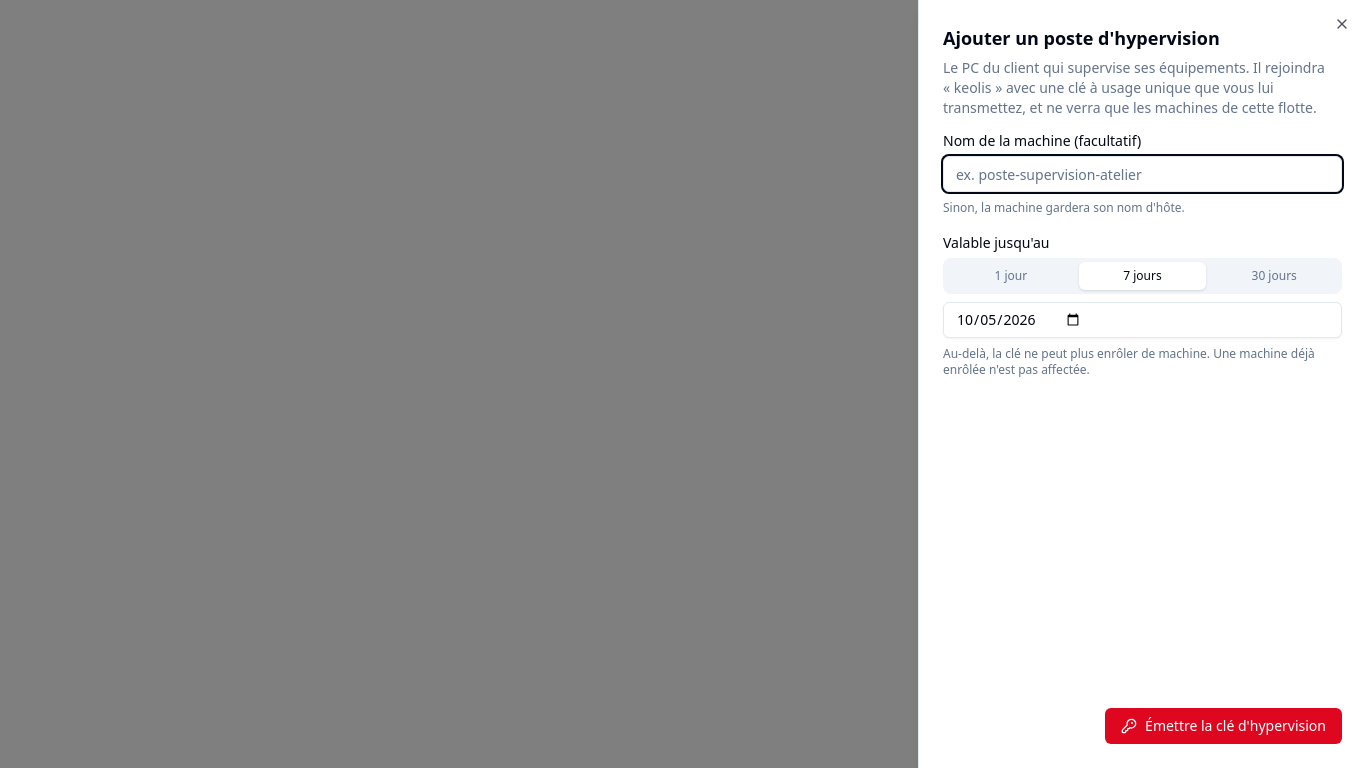
Test: AddMachineDialog › poste d’hypervision : uniquement par clé, marquée hypervision
This screenshot has width=1366, height=768.
Type "Poste Atelier" into the field labelled "Nom de la machine (facultatif)" at [1142, 174], box x1=943 y1=156 x2=1342 y2=192
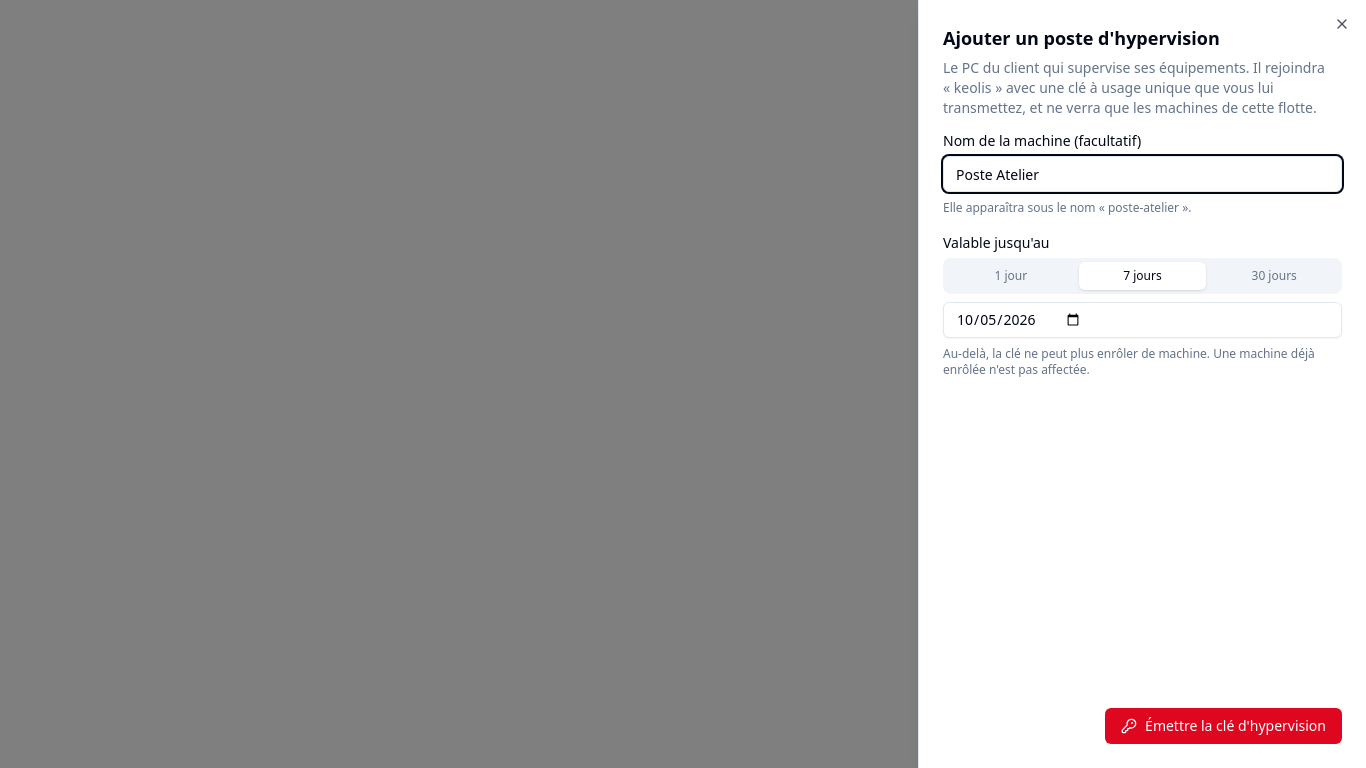
Click the button "Émettre la clé d'hypervision" at [1224, 726], box x1=1105 y1=708 x2=1342 y2=744
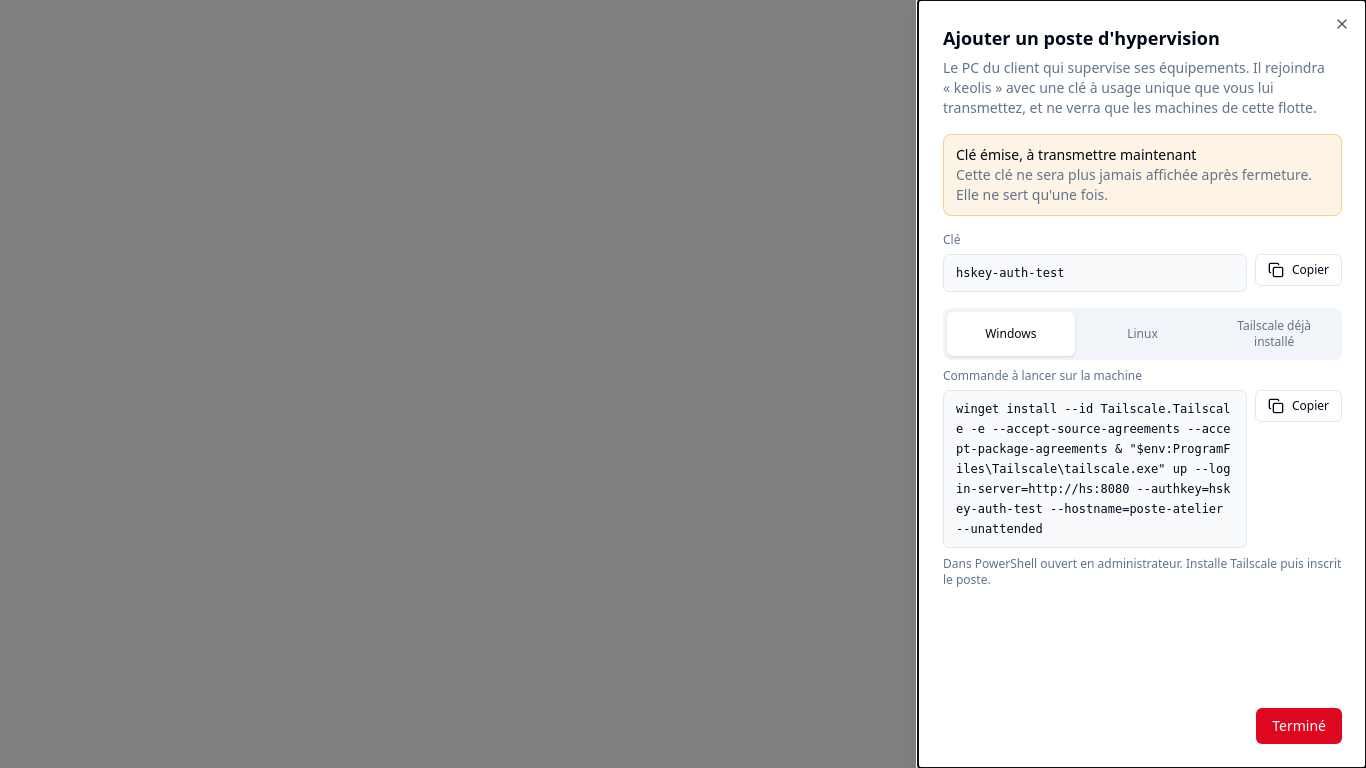
expect the text "tailscale.exe\" up --login-server=http://hs:8080 --authkey=hskey-auth-test --hostname=poste-atelier" is shown: met, box x1=956 y1=402 x2=1230 y2=536
Click the radio button labelled "Linux" at [1143, 334], box x1=1079 y1=312 x2=1206 y2=356
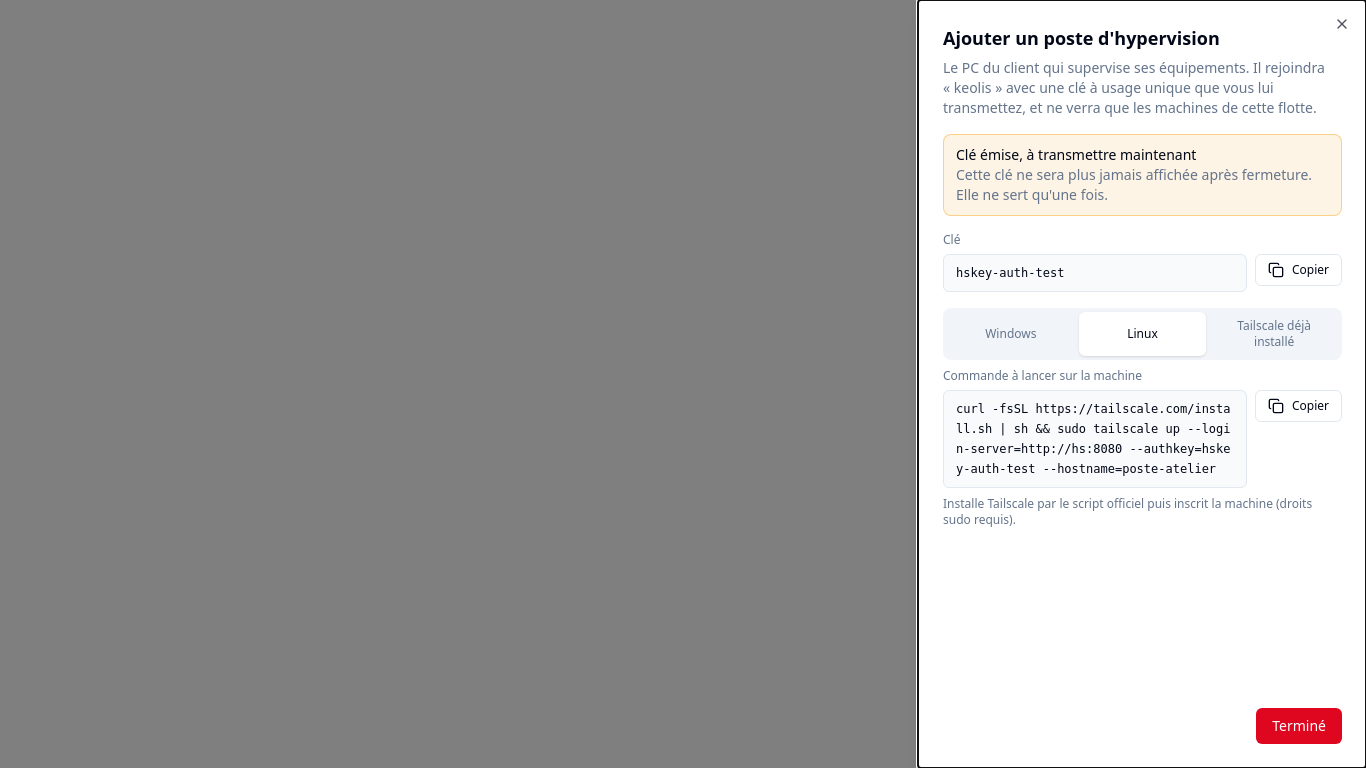
expect the text "sudo tailscale up --login-server" is shown: met, box x1=956 y1=402 x2=1230 y2=476
